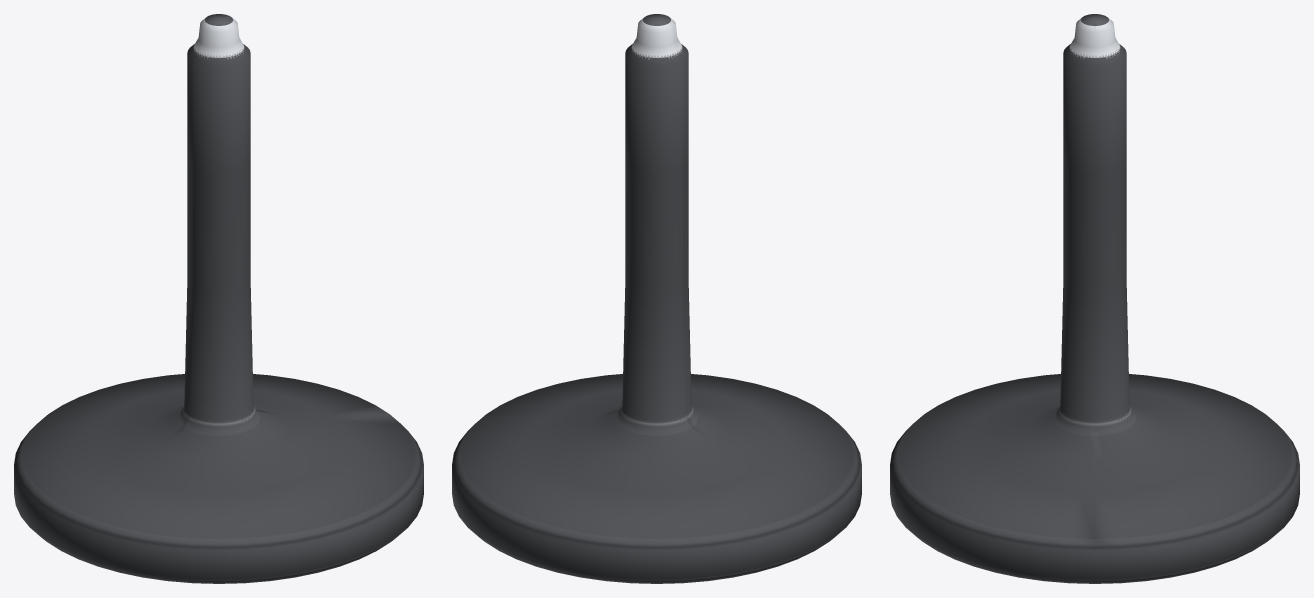
3 views of the same model, side by side, from view 1: azimuth 30°, elevation 25°; view 2: azimuth 150°, elevation 25°; view 3: azimuth 270°, elevation 25° (orthographic).
Parts seen in each view (by area): view 1: k-m-232-body; view 2: k-m-232-body; view 3: k-m-232-body.
Boxes of the visible parts, box(x1,y1,x2,y2) form: k-m-232-body: box(14, 14, 423, 583); k-m-232-body: box(452, 14, 861, 583); k-m-232-body: box(890, 14, 1299, 583).
Size of the model in its own units: 0.13 by 0.17 by 0.13.
1 material, 1 textured.
